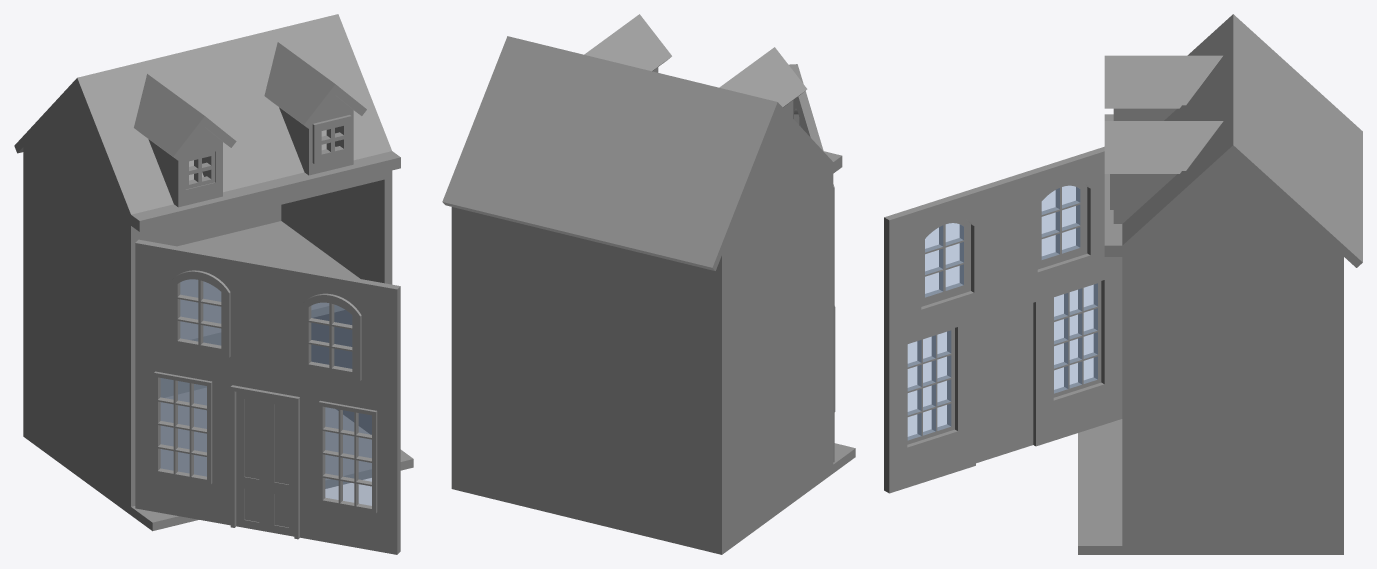
3 renders of one model, left to right at view 1: azimuth 30°, elevation 25°; view 2: azimuth 150°, elevation 25°; view 3: azimuth 270°, elevation 25°, orthographic. The views are drawn at different scales.
Visible parts, largest first — view 1: 78584, 78733, 78740, 78583, 78736, 78734, 78735, 78582, 78581, 78741, 78580, 78579 (+13 smaller); view 2: 78737, 78739, 78733, 78734, 78740, 78736, 78759, 78755, 78584, 78760, 78756; view 3: 78736, 78584, 78739, 78583, 78740, 78734, 78760, 78756, 78581, 78582, 78580, 78579 (+3 smaller).
Boxes of the visible parts, bbox=[...] form: 78584: bbox=[135, 239, 400, 554]; 78733: bbox=[23, 89, 138, 506]; 78740: bbox=[74, 14, 391, 224]; 78583: bbox=[230, 385, 299, 539]; 78736: bbox=[281, 170, 392, 434]; 78734: bbox=[23, 387, 413, 531]; 78735: bbox=[177, 221, 359, 343]; 78582: bbox=[318, 400, 377, 513]; 78581: bbox=[154, 371, 212, 484]; 78741: bbox=[131, 151, 400, 231]; 78580: bbox=[169, 270, 230, 357]; 78579: bbox=[300, 293, 361, 381]; 78737: bbox=[459, 209, 714, 543]; 78739: bbox=[442, 44, 777, 270]; 78733: bbox=[714, 114, 833, 545]; 78734: bbox=[451, 443, 855, 554]; 78740: bbox=[504, 36, 833, 172]; 78736: bbox=[451, 207, 459, 481]; 78759: bbox=[731, 54, 807, 107]; 78755: bbox=[595, 21, 671, 71]; 78584: bbox=[789, 64, 834, 462]; 78760: bbox=[719, 47, 779, 90]; 78756: bbox=[584, 14, 644, 57]; 78736: bbox=[1122, 156, 1343, 545]; 78584: bbox=[884, 146, 1122, 493]; 78739: bbox=[1233, 20, 1362, 267]; 78583: bbox=[976, 303, 1033, 463]; 78740: bbox=[1122, 14, 1239, 256]; 78734: bbox=[1078, 419, 1343, 554]; 78760: bbox=[1104, 55, 1222, 108]; 78756: bbox=[1104, 121, 1223, 173]; 78581: bbox=[1053, 281, 1101, 397]; 78582: bbox=[907, 328, 954, 444]; 78580: bbox=[1037, 179, 1087, 269]; 78579: bbox=[921, 217, 970, 306].
Bounding box in the file's own units: 0.35 × 0.5101 × 0.5401.
